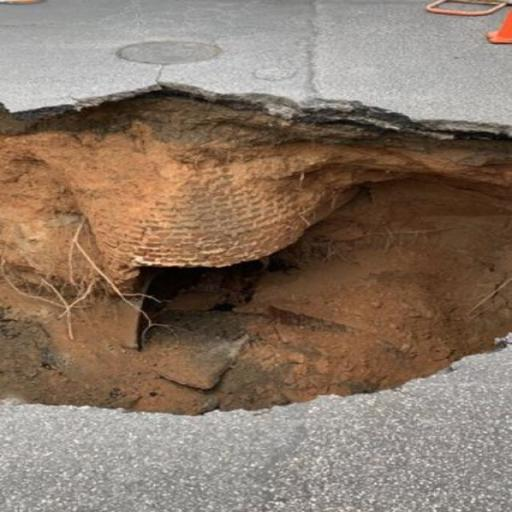Concentric_Crack: (3, 84, 512, 414)
